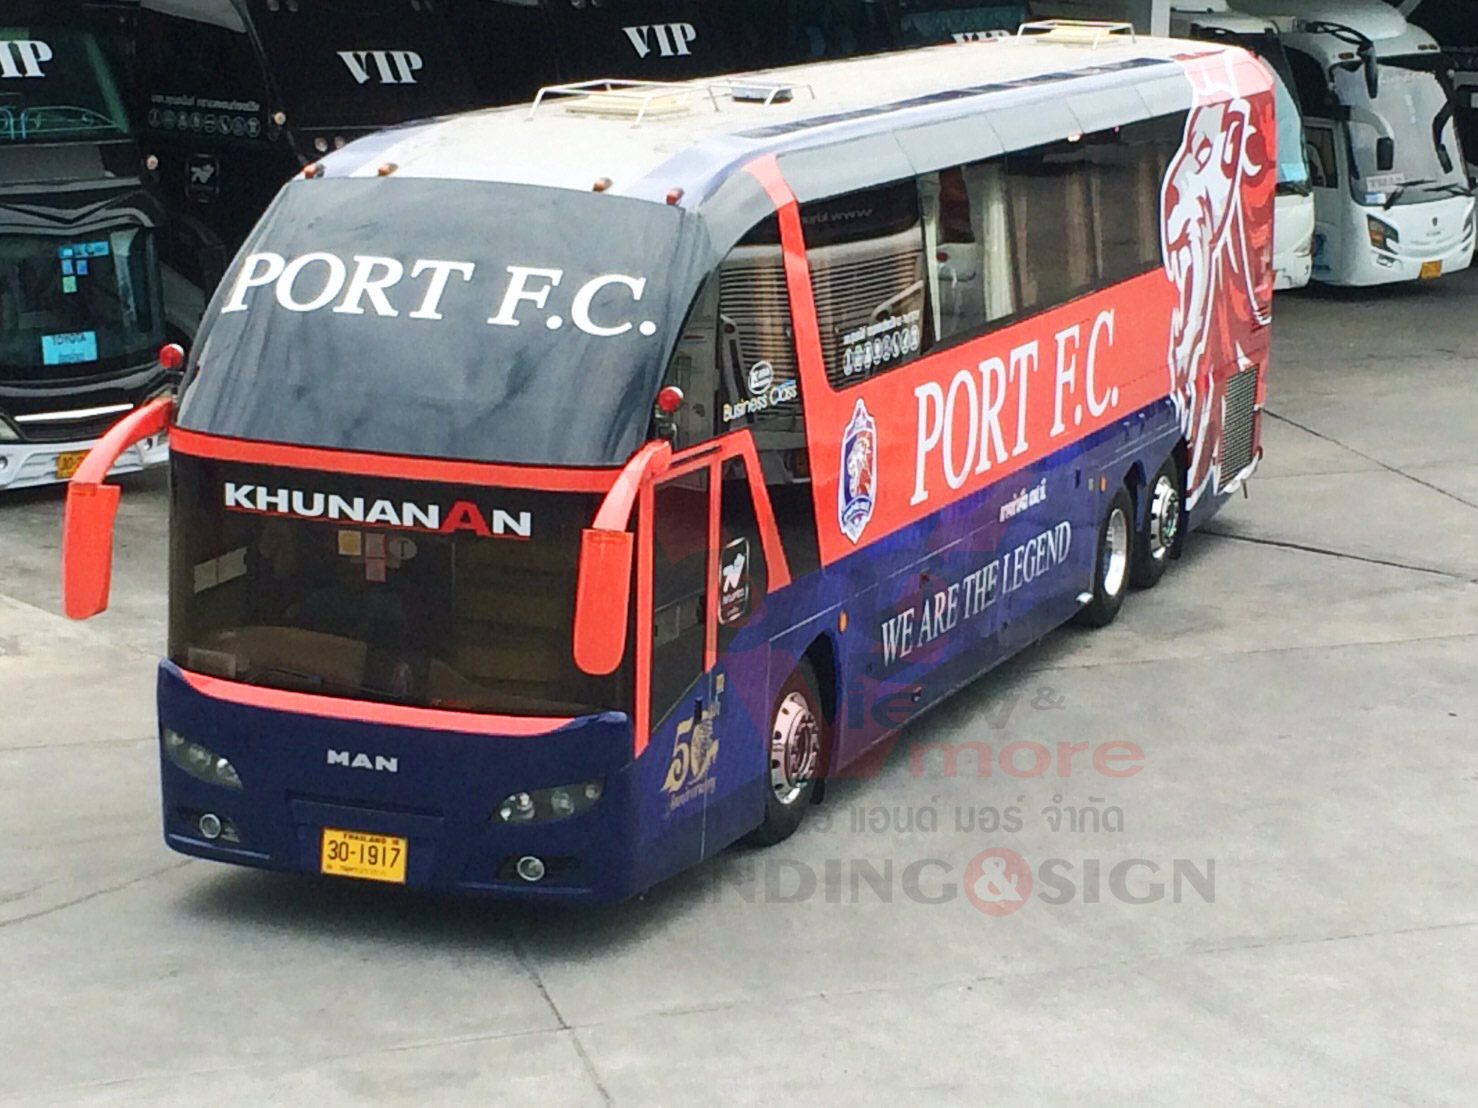bus: (149, 24, 1266, 916)
